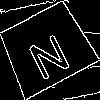N: (21, 23, 73, 82)
